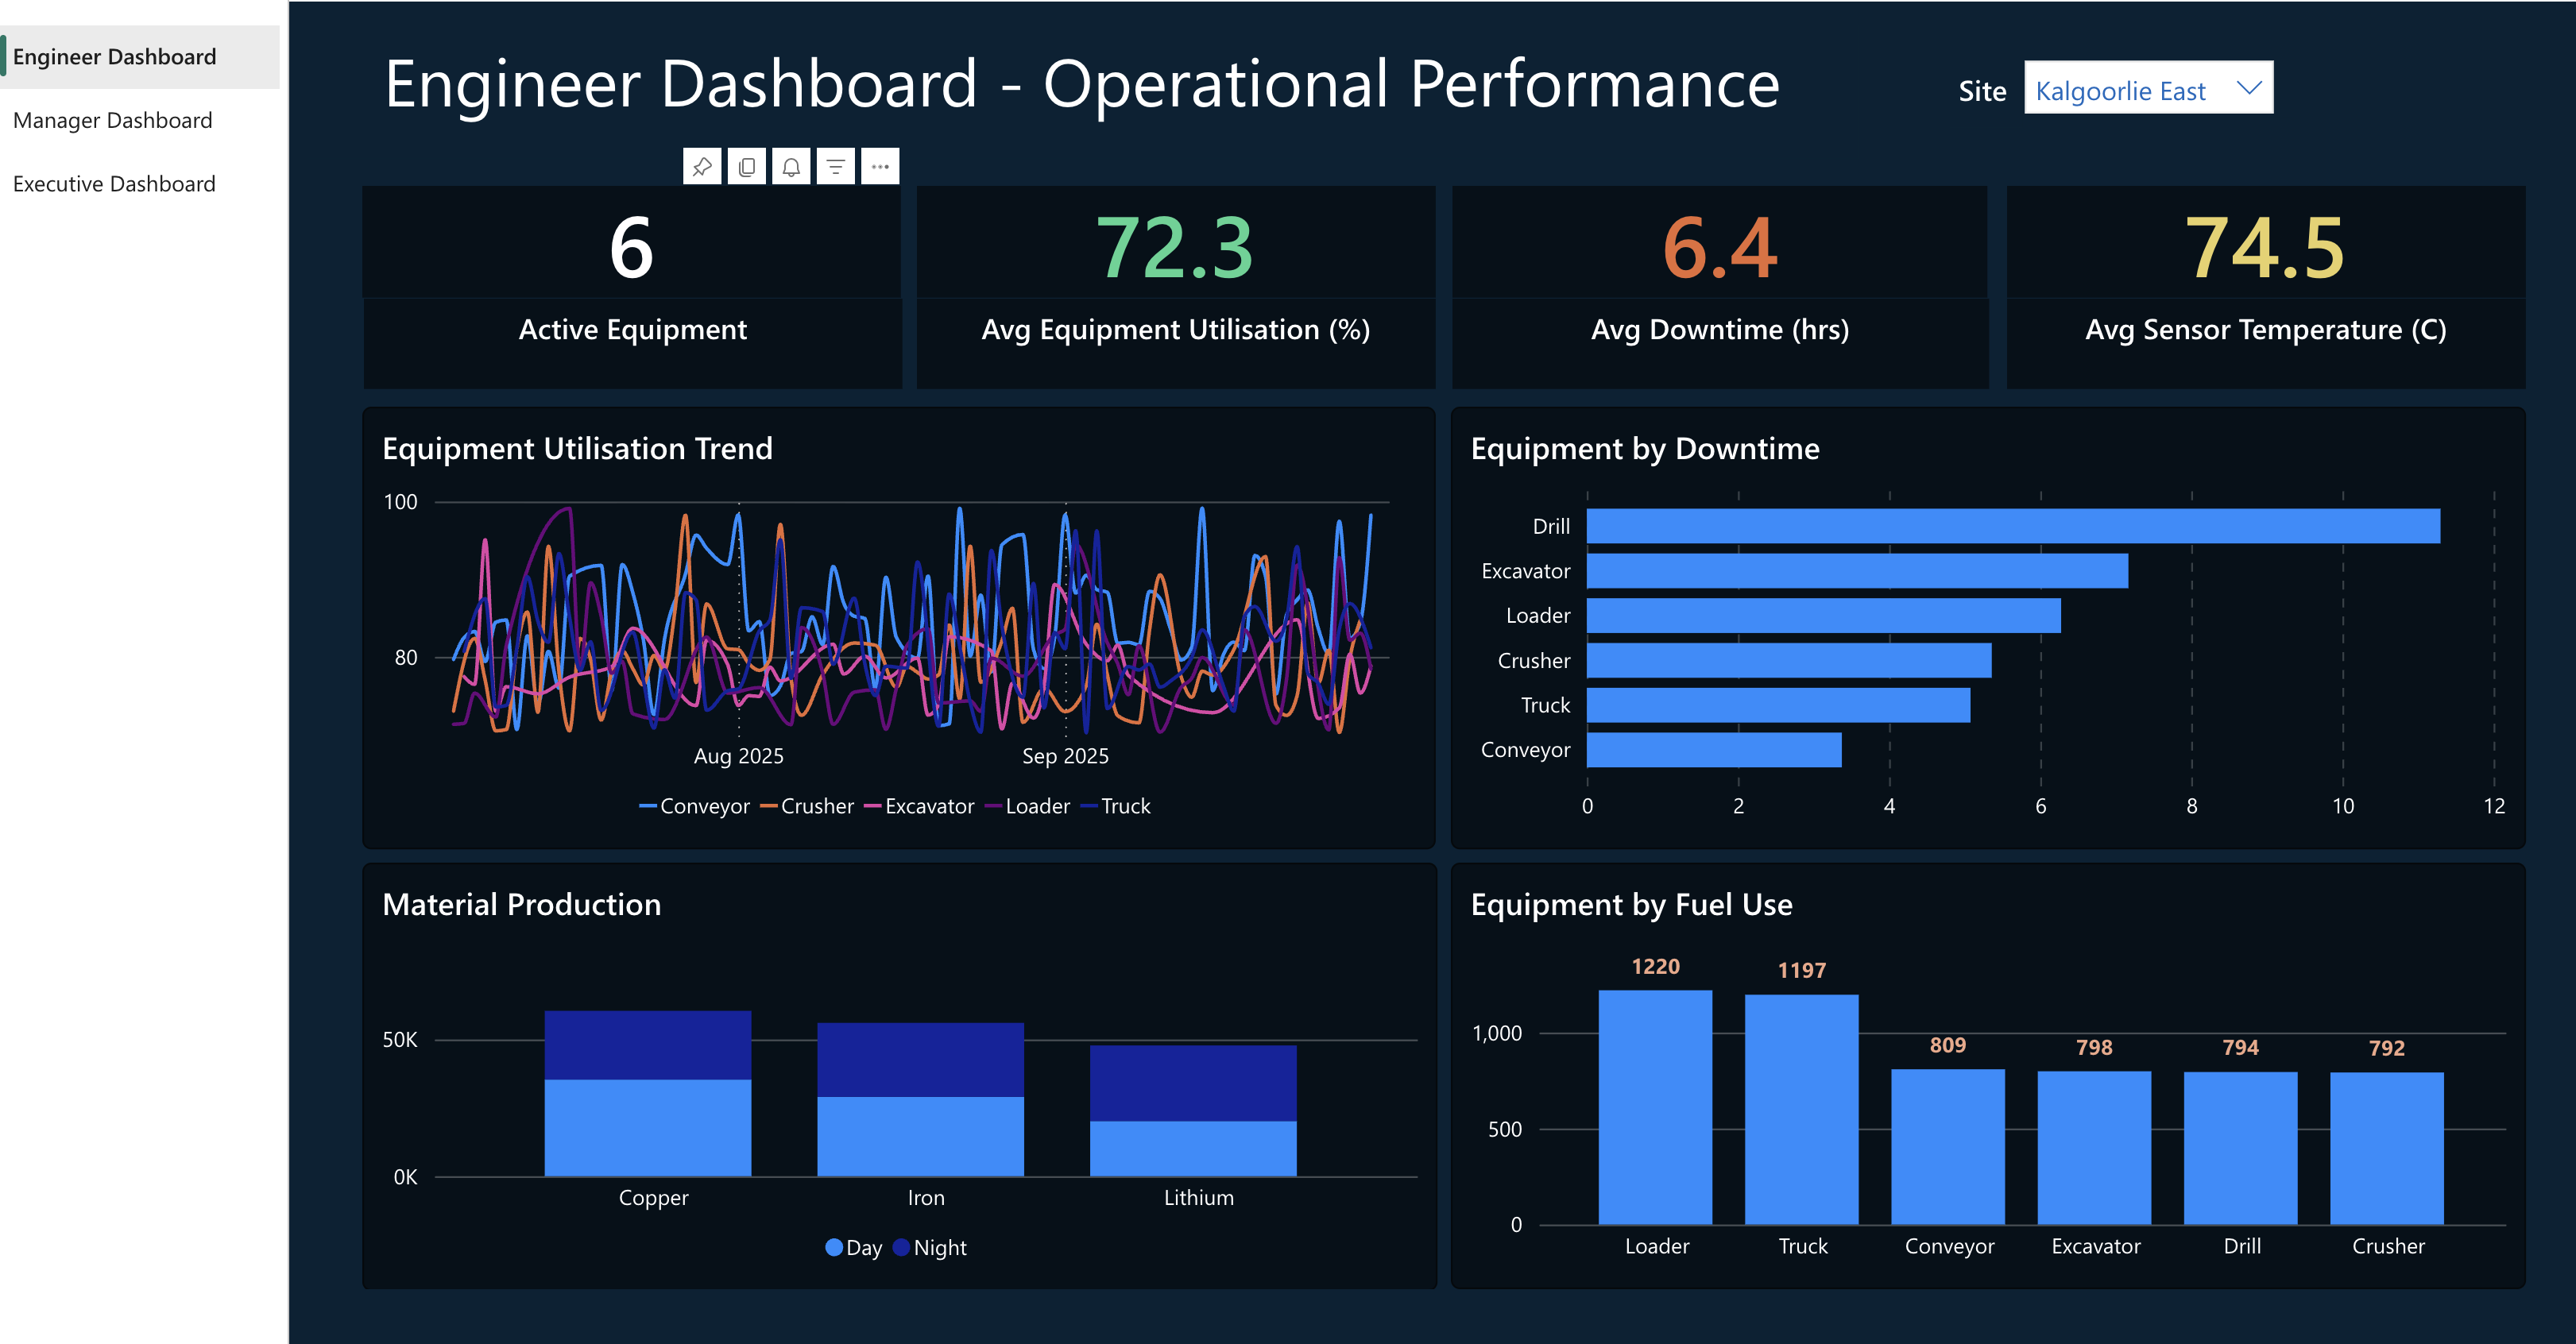

This screenshot's page, from the dashboard's own definition file:
{"tool":"powerbi","page":{"name":"Engineer Dashboard","canvas":[1280,720],"ordinal":0},"visuals":[{"type":"textbox","box":[9.9,12.9,866.9,74.5],"z":0},{"type":"slicer","title":"Site","fields":{"Values":["site_info.Site_Name"]},"box":[960.2,22.8,158.9,41.7],"z":1000},{"type":"card","title":"Total Production","fields":{"Values":["Count(equipment.Equipment_Type)"]},"box":[40.7,103.3,300.9,62.6],"z":2000},{"type":"card","title":"Runtime Hours","fields":{"Values":["equipment.Utilisation_%"]},"box":[350.5,103.3,290,62.6],"z":3000},{"type":"card","title":"Energy Cost","fields":{"Values":["Avg(equipment.Downtime_Hours)"]},"box":[650.4,103.3,298.9,62.6],"z":4000},{"type":"card","title":"Fuel Used","fields":{"Values":["Avg(iot_sensor.Temperature_C)"]},"box":[960.2,103.3,290,62.6],"z":5000},{"type":"lineChart","title":"Equipment Utilisation Trend","fields":{"Category":["equipment.Date"],"Y":["equipment.Utilisation_%"],"Series":["equipment.Equipment_Type"]},"box":[40.7,226.4,599.8,247.3],"z":6000},{"type":"clusteredBarChart","title":"Equipment by Downtime","fields":{"Y":["Avg(equipment.Downtime_Hours)"],"Category":["equipment.Equipment_Type"]},"box":[649.4,226.4,600.8,247.3],"z":7000},{"type":"columnChart","title":"Material Production","fields":{"Category":["production.Material_Type"],"Y":["Sum(production.Quantity_Tonnes)"],"Series":["production.Shift"]},"box":[40.7,481.6,600.8,239.3],"z":8000},{"type":"clusteredColumnChart","title":"Equipment by Fuel Use","fields":{"Category":["equipment.Equipment_Type"],"Y":["Avg(equipment.Fuel_Used_Litres)"]},"box":[649.4,481.6,600.8,238.3],"z":9000},{"type":"textbox","box":[928.5,32.8,40.7,37.7],"z":10000},{"type":"textbox","box":[41.7,165.8,300.9,50.6],"z":11000},{"type":"textbox","box":[350.5,165.8,290,50.6],"z":12000},{"type":"textbox","box":[650.4,165.8,299.9,50.6],"z":13000},{"type":"textbox","box":[960.2,165.8,290,50.6],"z":14000}]}

Visuals, with their boxes on the page's 1280x720 design canvas (x1, y1, x2, y2). These are canvas units, not pixel positions in the 2576x1344 screenshot, which may show the page scaled, cropped or inside an application window:
textbox: (x1=10, y1=13, x2=877, y2=87)
"Site" slicer: (x1=960, y1=23, x2=1119, y2=64)
"Total Production" card: (x1=41, y1=103, x2=342, y2=166)
"Runtime Hours" card: (x1=350, y1=103, x2=640, y2=166)
"Energy Cost" card: (x1=650, y1=103, x2=949, y2=166)
"Fuel Used" card: (x1=960, y1=103, x2=1250, y2=166)
"Equipment Utilisation Trend" lineChart: (x1=41, y1=226, x2=640, y2=474)
"Equipment by Downtime" clusteredBarChart: (x1=649, y1=226, x2=1250, y2=474)
"Material Production" columnChart: (x1=41, y1=482, x2=642, y2=721)
"Equipment by Fuel Use" clusteredColumnChart: (x1=649, y1=482, x2=1250, y2=720)
textbox: (x1=928, y1=33, x2=969, y2=70)
textbox: (x1=42, y1=166, x2=343, y2=216)
textbox: (x1=350, y1=166, x2=640, y2=216)
textbox: (x1=650, y1=166, x2=950, y2=216)
textbox: (x1=960, y1=166, x2=1250, y2=216)
